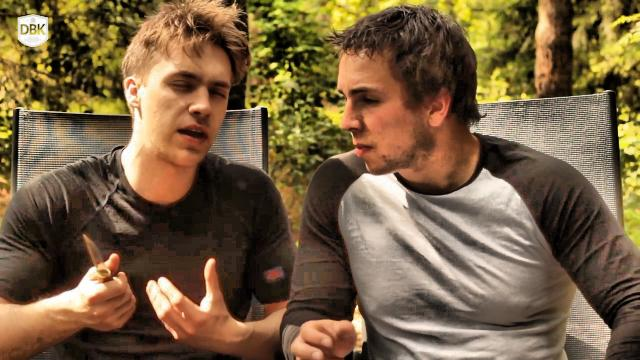knife: (71, 223, 141, 313)
